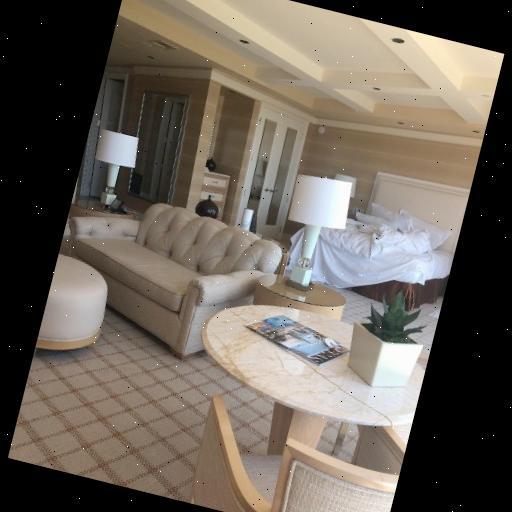chair: (138, 375, 408, 512)
lamp: (266, 174, 358, 302), (80, 124, 142, 215)
messy_bed: (291, 173, 468, 311)
organized table: (177, 248, 442, 466)
